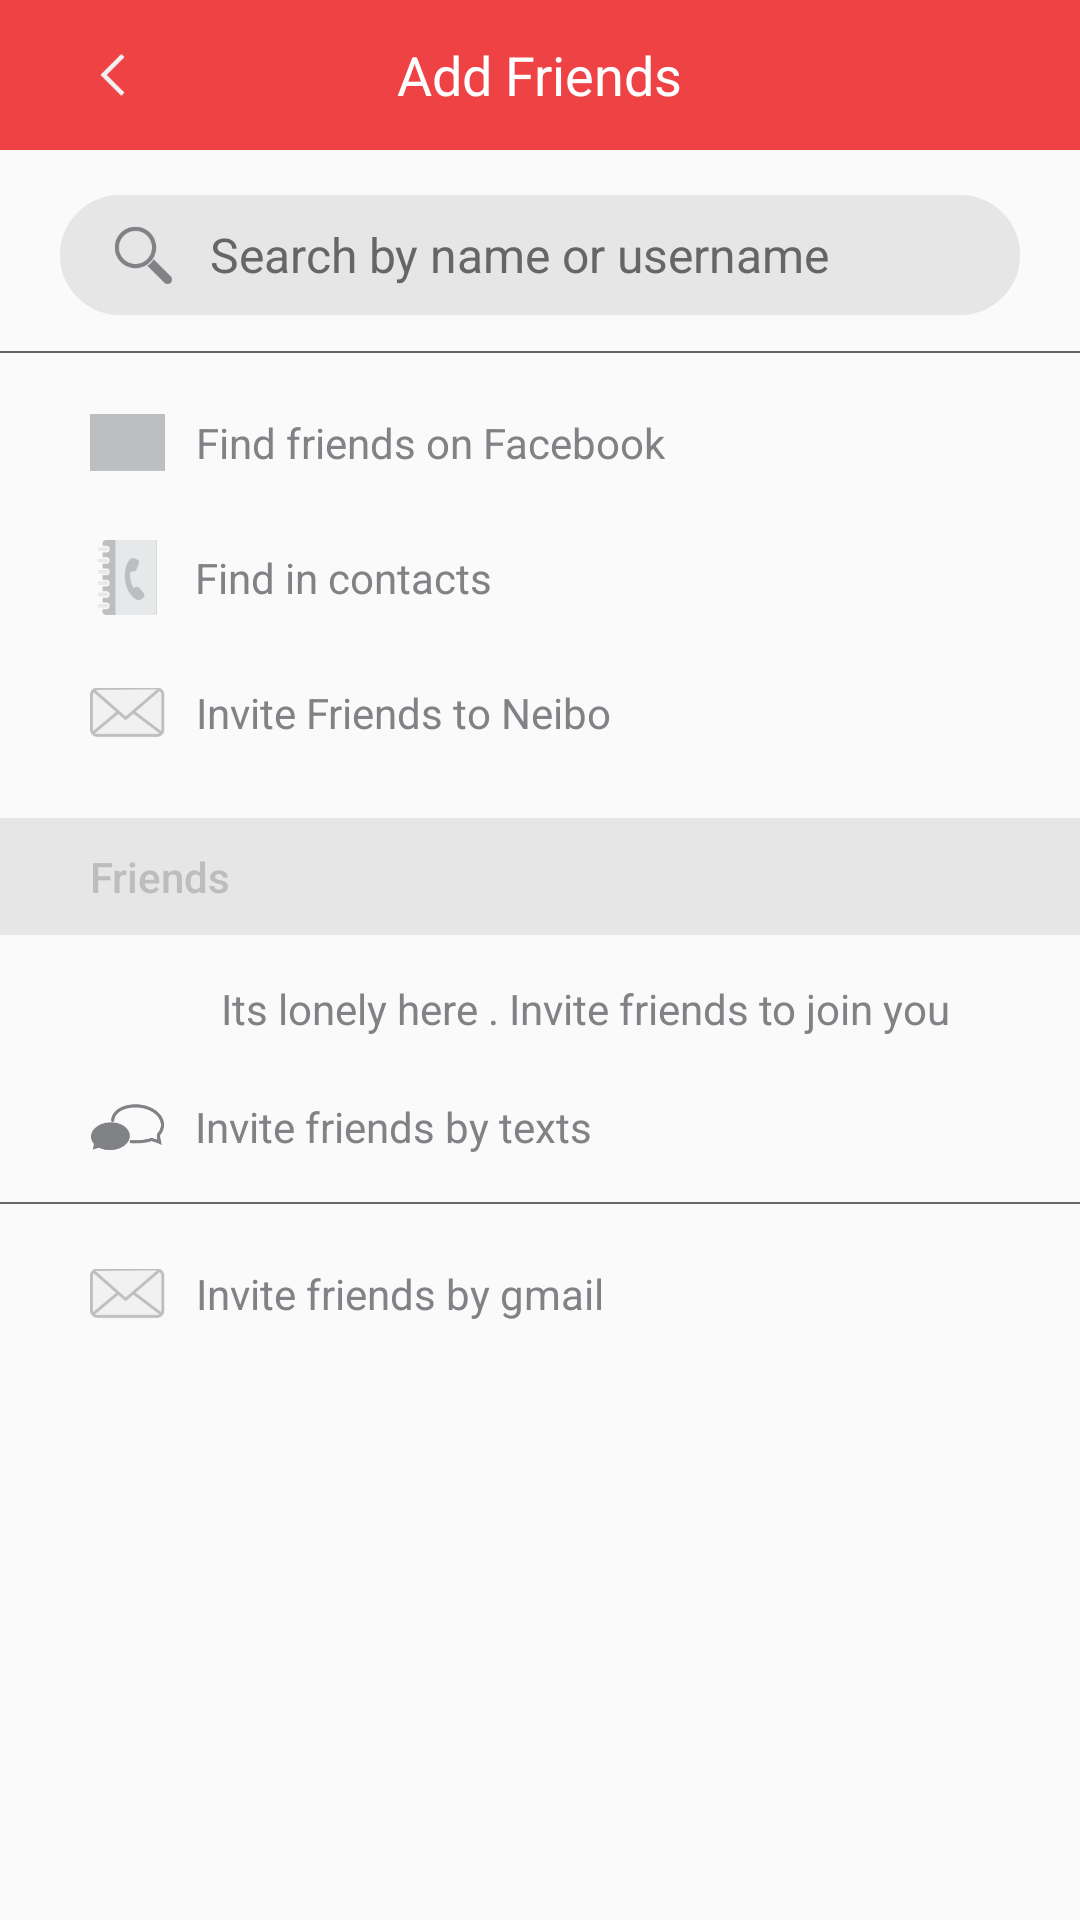

Named icons in this screenshot (1080px x 1920px) and their centers, [x,y]:
back: [112,75]
